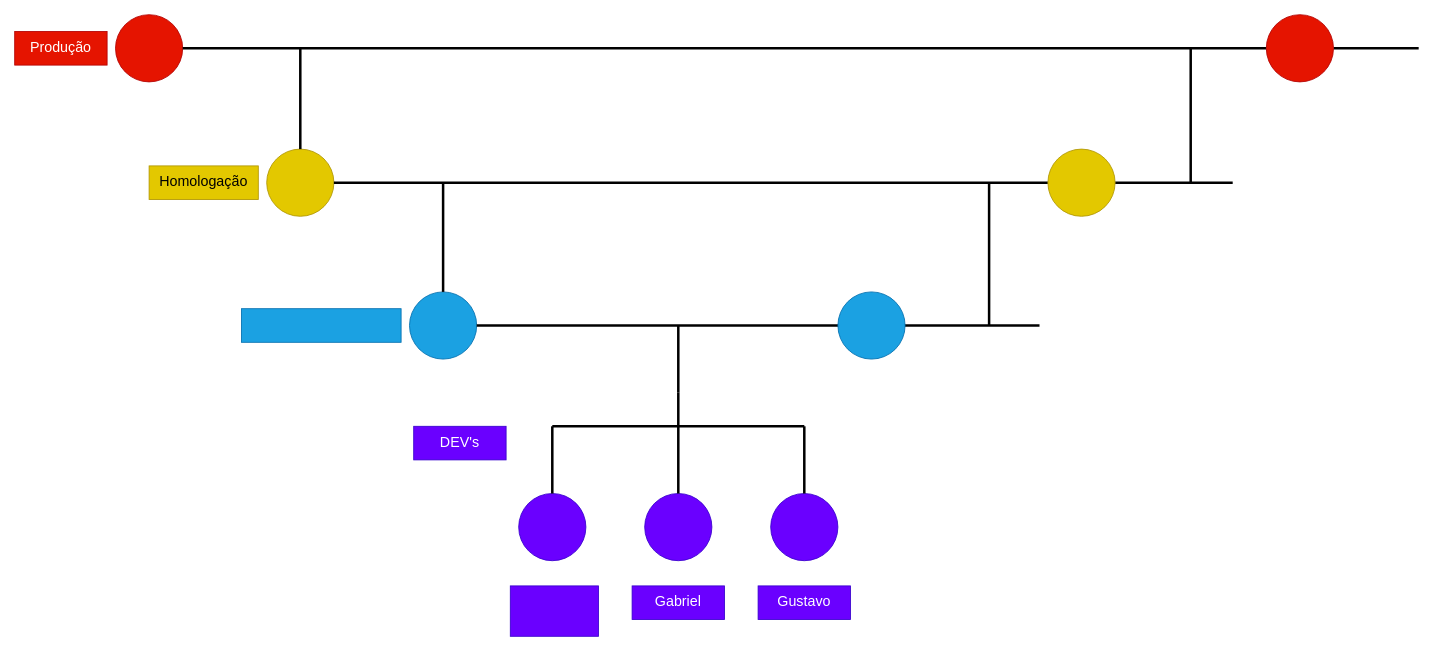
Some shapes in this 1436 by 651 pixel diagram are drawn without their labels. The centre of each missing label's shape, as x and y in pixels:
"Desenvolvimento" goes at pixel 321 325.
"Gabriel Fontes" goes at pixel 553 610.
